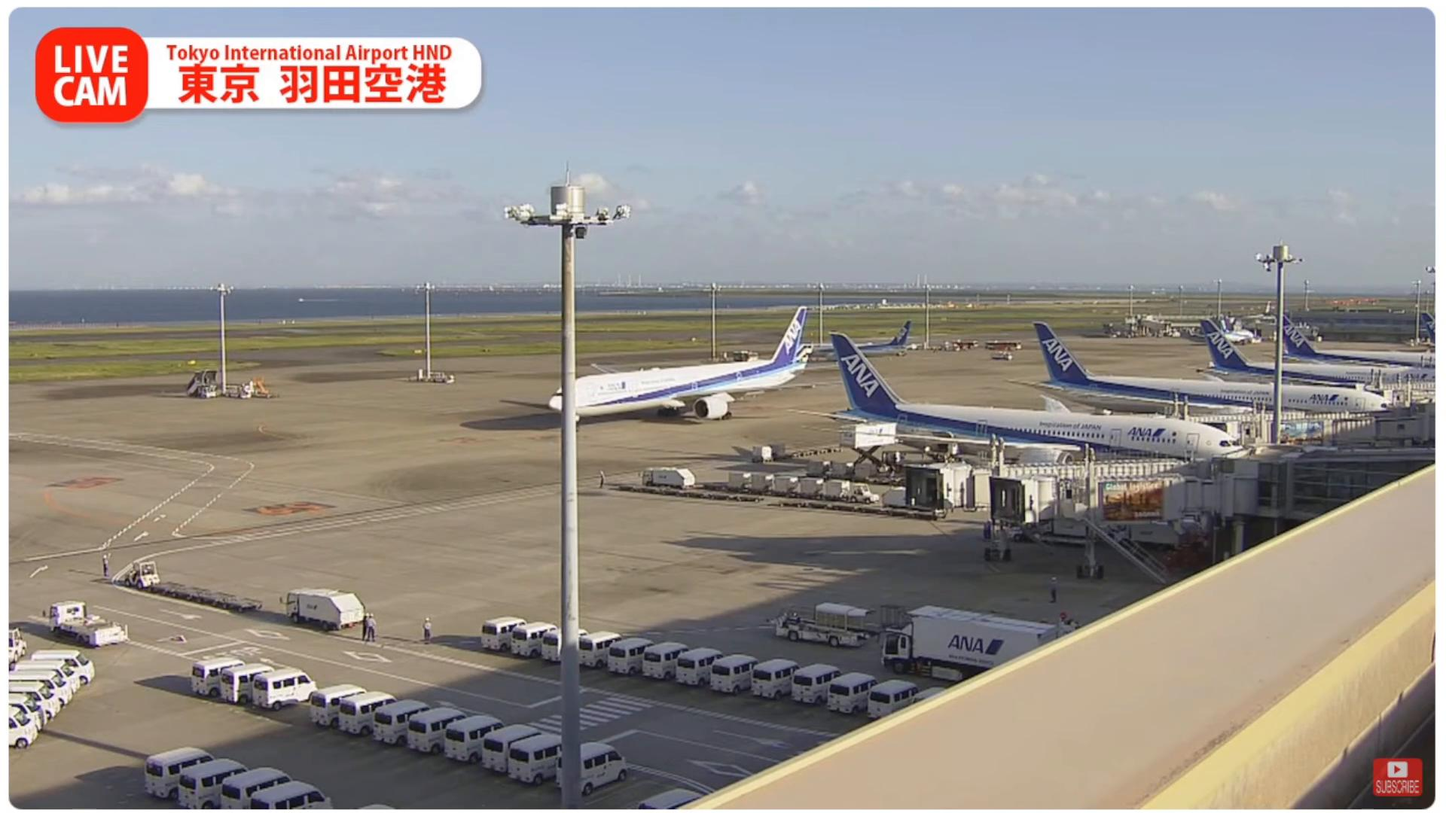Aerobridge: (1001, 477, 1256, 538), (905, 463, 1191, 491)
Airplane: (545, 308, 807, 419)
Baggage truck: (284, 585, 367, 630)
Catering: (859, 601, 1055, 687)
Dolly: (144, 582, 263, 612)
Skyloader: (774, 601, 867, 646)
Tractor: (123, 563, 161, 587)
Window: (1253, 443, 1435, 520)
